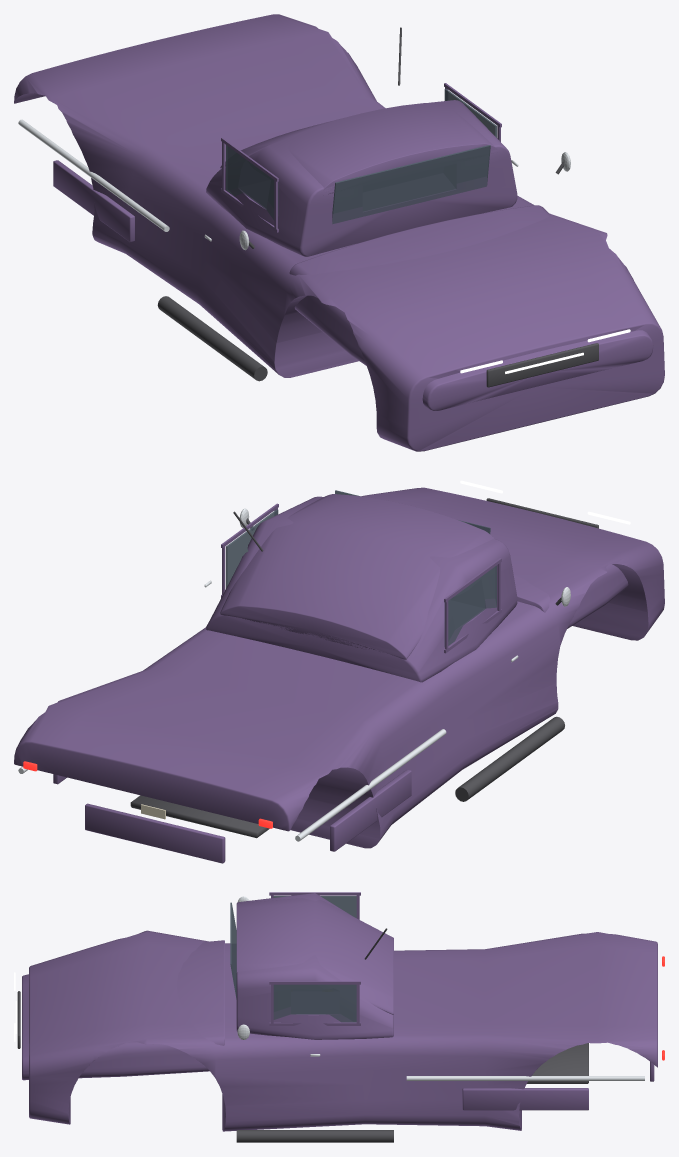
Rendered from kestrel-talon.glb.
3 renders of one model, top to bottom at view 1: azimuth 30°, elevation 25°; view 2: azimuth 150°, elevation 25°; view 3: azimuth 270°, elevation 25°, orthographic. The views are drawn at different scales.
Visible parts, largest first — view 1: PaintBody, PaintCab, PaintHood, PaintRoof, Glass.002, Paint.008, Plastic.004, Glass, Plastic.001, Chrome.001; view 2: PaintBody, PaintRoof, PaintCab, Paint.010, Paint.008, PaintHood, Plastic.004, Glass, Plastic.002, Chrome.001, Glass.001; view 3: PaintBody, PaintRoof, PaintHood, PaintCab, Paint.009, Glass.001, Plastic.006, Plastic.002, Chrome.002, Glass.002, Glass.
Part boxes in pixels (x1,y1,x2,y2): PaintBody: (14, 14, 664, 451); PaintCab: (206, 100, 517, 256); PaintHood: (289, 205, 653, 410); PaintRoof: (220, 102, 497, 194); Glass.002: (332, 145, 490, 224); Paint.008: (53, 160, 134, 242); Plastic.004: (157, 296, 267, 381); Glass: (226, 145, 278, 220); Plastic.001: (486, 343, 598, 387); Chrome.001: (18, 119, 169, 231); PaintBody: (14, 487, 664, 848); PaintRoof: (220, 494, 494, 659); PaintCab: (206, 496, 517, 682); Paint.010: (85, 803, 225, 863); Paint.008: (330, 769, 411, 851); PaintHood: (513, 564, 628, 628); Plastic.004: (455, 716, 564, 801); Glass: (444, 565, 496, 646); Plastic.002: (130, 795, 269, 838); Chrome.001: (295, 729, 446, 841); Glass.001: (226, 509, 278, 588); PaintBody: (29, 930, 657, 1131); PaintRoof: (236, 898, 393, 1014); PaintHood: (22, 940, 224, 1080); PaintCab: (236, 893, 393, 1039); Paint.009: (462, 1088, 588, 1110); Glass.001: (273, 984, 356, 1022); Plastic.006: (236, 1130, 393, 1142); Plastic.002: (527, 1043, 588, 1083); Chrome.002: (406, 1076, 644, 1080); Glass.002: (230, 902, 236, 999); Glass: (273, 896, 356, 917).
Bounding box in the file's own units: 2.16 × 1.45 × 4.55.
